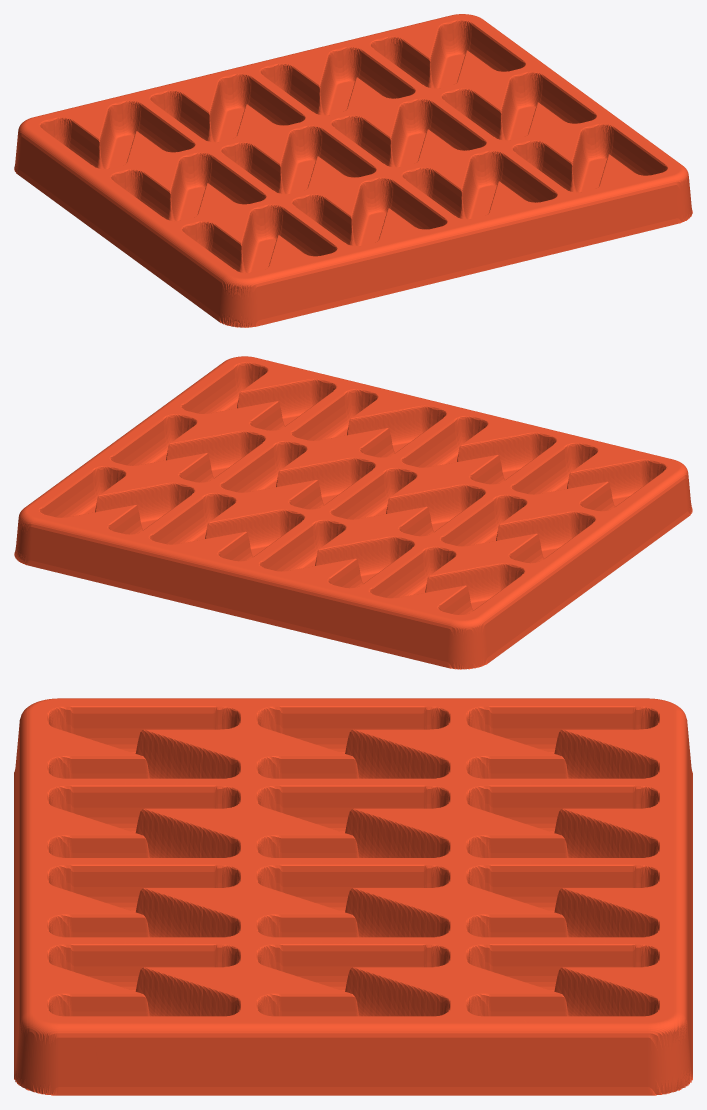
Rendered from mold.glb.
3 renders of one model, top to bottom at view 1: azimuth 30°, elevation 25°; view 2: azimuth 150°, elevation 25°; view 3: azimuth 270°, elevation 25°, orthographic. The views are drawn at different scales.
Parts seen in each view (by area): view 1: geometry_0; view 2: geometry_0; view 3: geometry_0.
Boxes of the visible parts, x1=… form: geometry_0: x1=14, y1=14, x2=692, y2=327; geometry_0: x1=14, y1=356, x2=692, y2=669; geometry_0: x1=14, y1=698, x2=692, y2=1095.
Size of the model in its own units: 0.1621 by 0.0145 by 0.1374.
